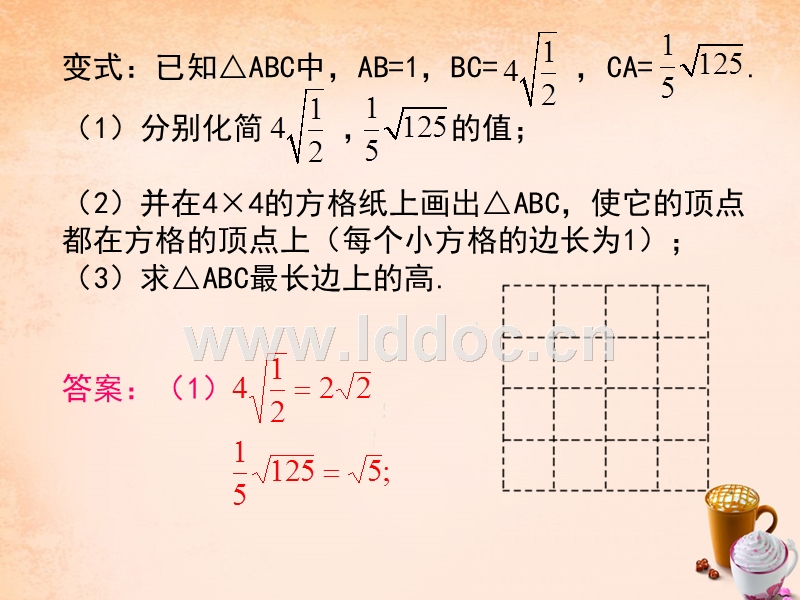division: (264, 384, 293, 400), (536, 68, 562, 81), (362, 123, 384, 138), (305, 124, 329, 134)
sqrt: (521, 27, 562, 113), (675, 38, 746, 84), (252, 350, 290, 430), (290, 86, 328, 164), (380, 105, 449, 141), (251, 451, 319, 483), (348, 450, 389, 487), (336, 366, 374, 405)
